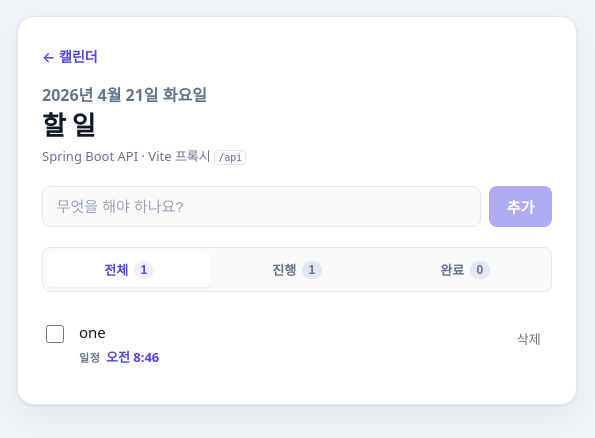
Test case: TodoDayPage › deletes a todo
Expected: the text "one" is shown, [79,322,106,342]
Step 1. Click the button with aria-label "one 삭제" → (529,338), box [505,322,552,354]
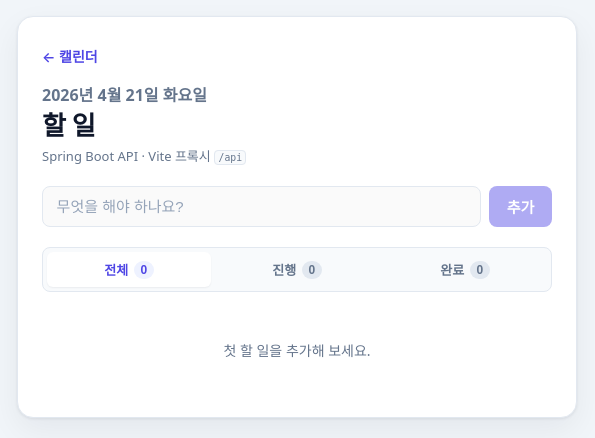
Result: the text "one" is gone
